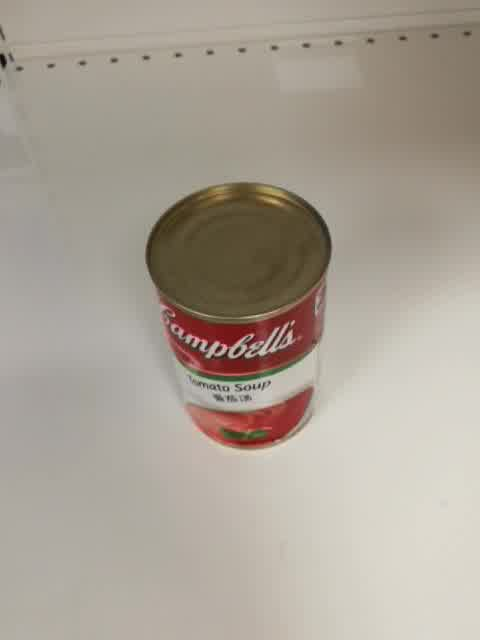tomatosoup: (142, 181, 333, 451)
